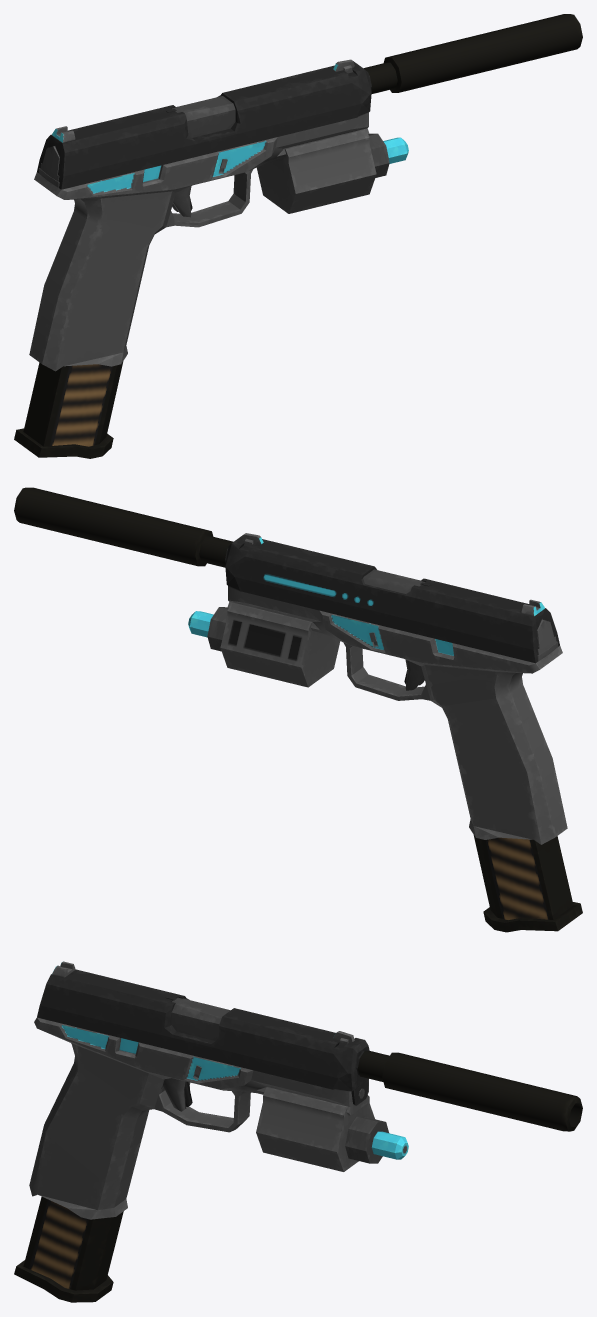
Rendered from Pistol 4.fbx.
3 views of the same model, one above another, from view 1: azimuth 30°, elevation 25°; view 2: azimuth 150°, elevation 25°; view 3: azimuth 330°, elevation 25° (orthographic).
Parts seen in each view (by area): view 1: Pistol 4; view 2: Pistol 4; view 3: Pistol 4.
Part boxes in pixels (x1,y1,x2,y2): Pistol 4: (14, 14, 582, 458); Pistol 4: (14, 487, 582, 932); Pistol 4: (14, 961, 582, 1302).
Bounding box in the file's own units: 27.1 × 15.18 × 3.39.
